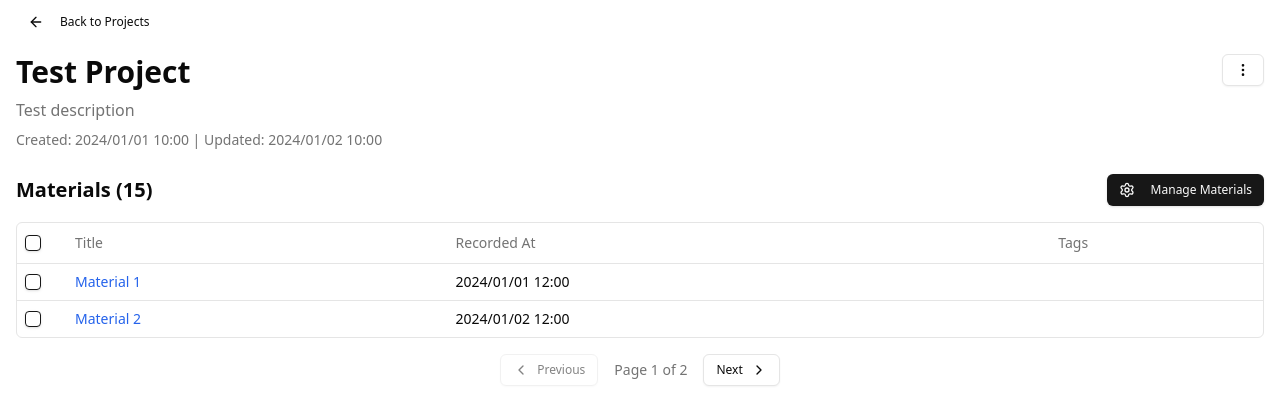
Test: ProjectDetailPage › Material operations › should handle select all materials
Expected: the heading "Test Project" is shown, [16,51,190,92]
Click the checkbox next to "Title" at [33, 243], box [25,235,41,251]
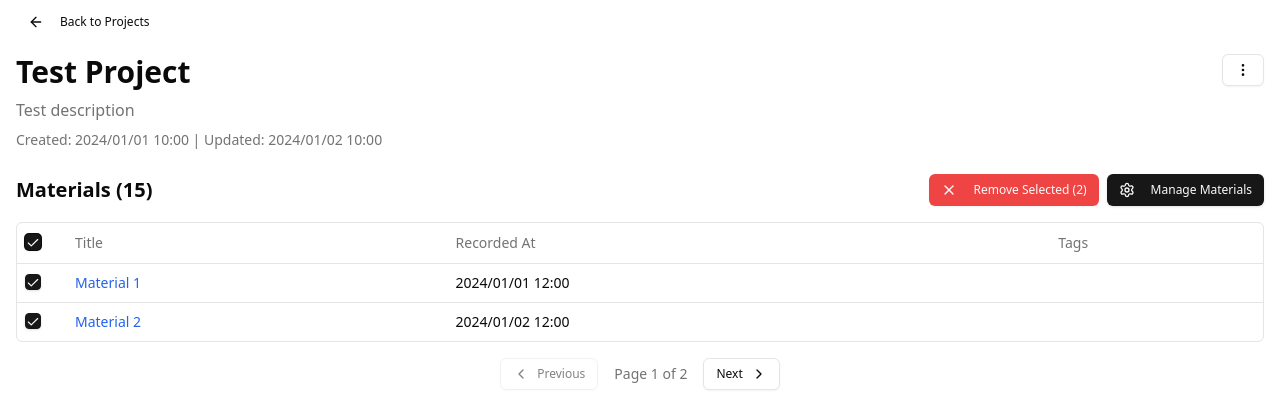
Result: the button "Remove Selected (2)" is shown at [930,174,1099,206]
